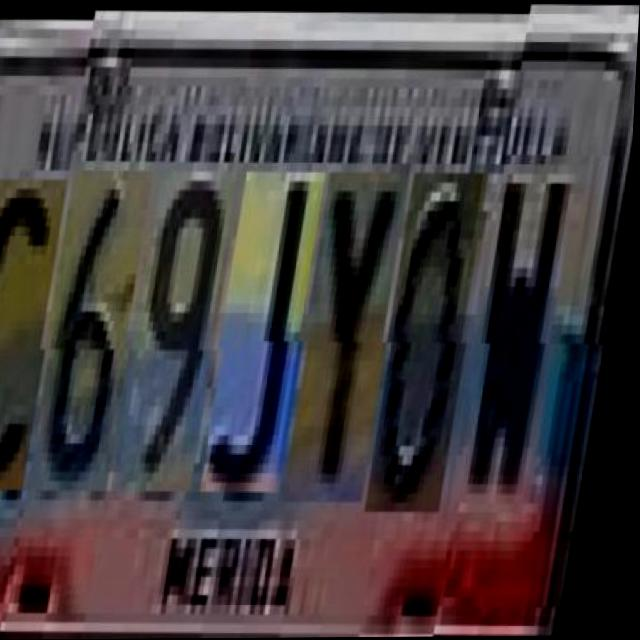6: (43, 170, 164, 492)
9: (132, 170, 248, 492)
c: (0, 169, 80, 482)
j: (217, 170, 337, 492)
o: (383, 172, 500, 511)
w: (466, 173, 588, 512)
y: (301, 171, 421, 501)
